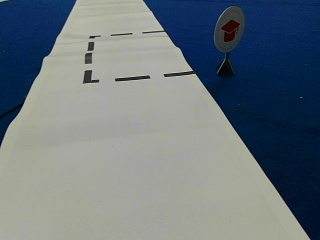school: (213, 7, 244, 51)
